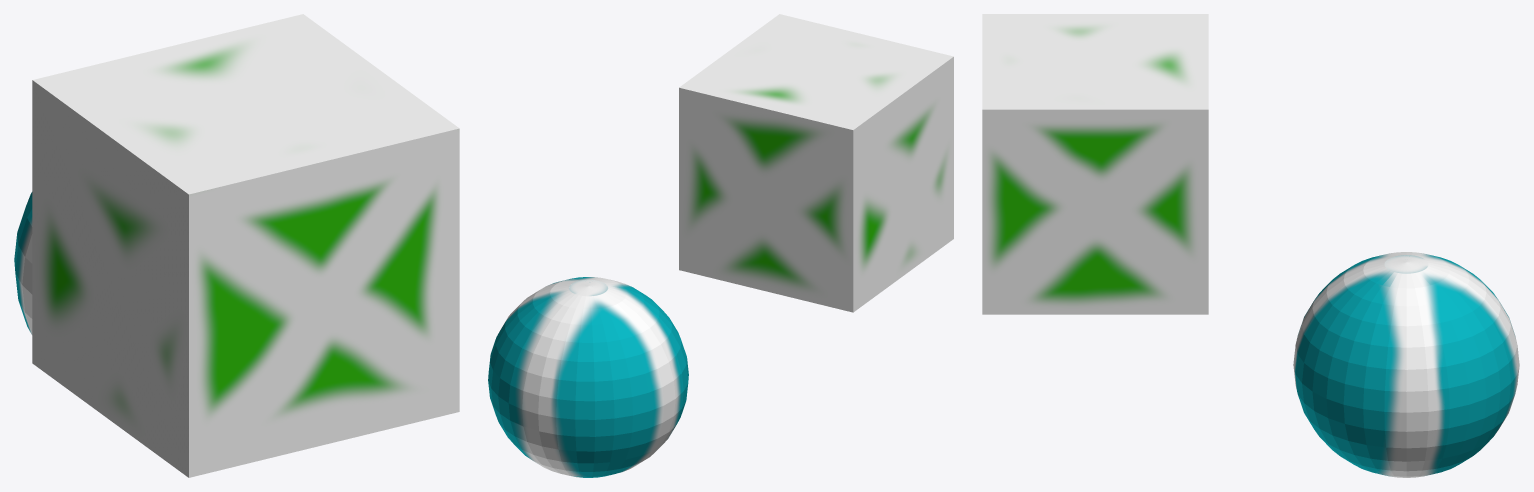
File: asd.fbx
3 views of the same model, side by side, from view 1: azimuth 30°, elevation 25°; view 2: azimuth 150°, elevation 25°; view 3: azimuth 270°, elevation 25° (orthographic). The views are drawn at different scales.
Visible parts, largest first — view 1: Куб, Сфера; view 2: Куб, Сфера; view 3: Куб, Сфера.
Boxes of the visible parts, left/top/right/bottom form: Куб: left=32, top=14, right=459, bottom=477; Сфера: left=14, top=192, right=32, bottom=334; Куб: left=679, top=14, right=953, bottom=312; Сфера: left=488, top=277, right=688, bottom=477; Куб: left=982, top=14, right=1208, bottom=314; Сфера: left=1293, top=252, right=1519, bottom=477.
Size of the model in its own units: 303 by 348 by 475.
2 materials, 2 textured.
